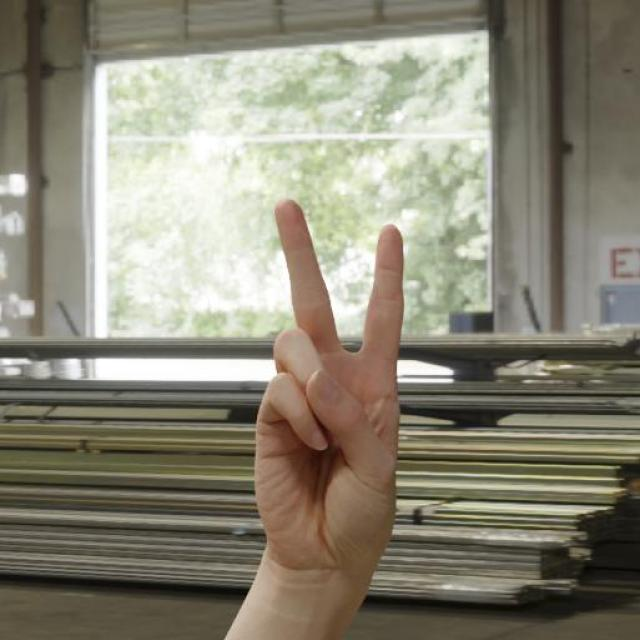V: (252, 197, 408, 576)
